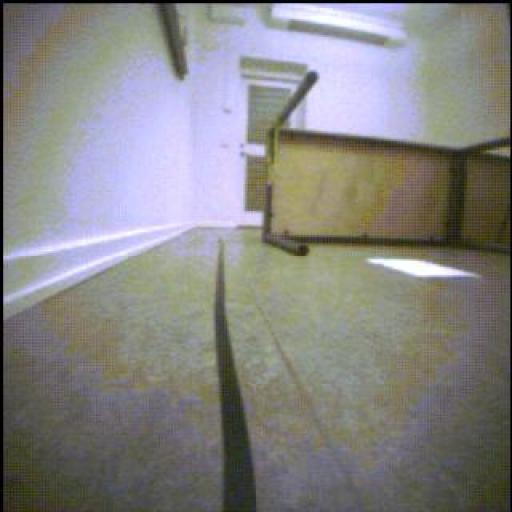Pad: (368, 258, 482, 286)
